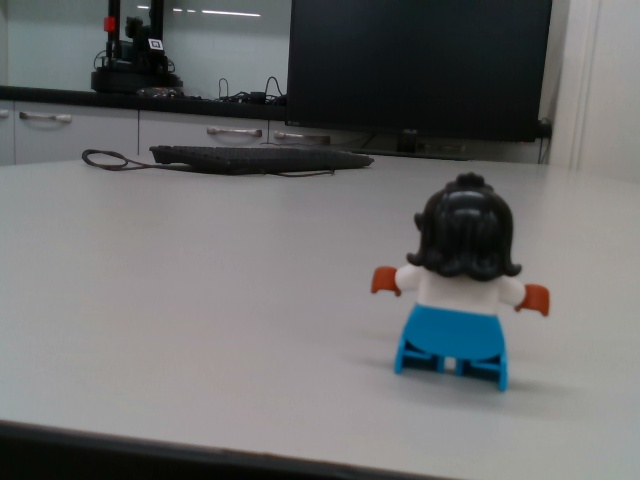people: (368, 173, 554, 396)
